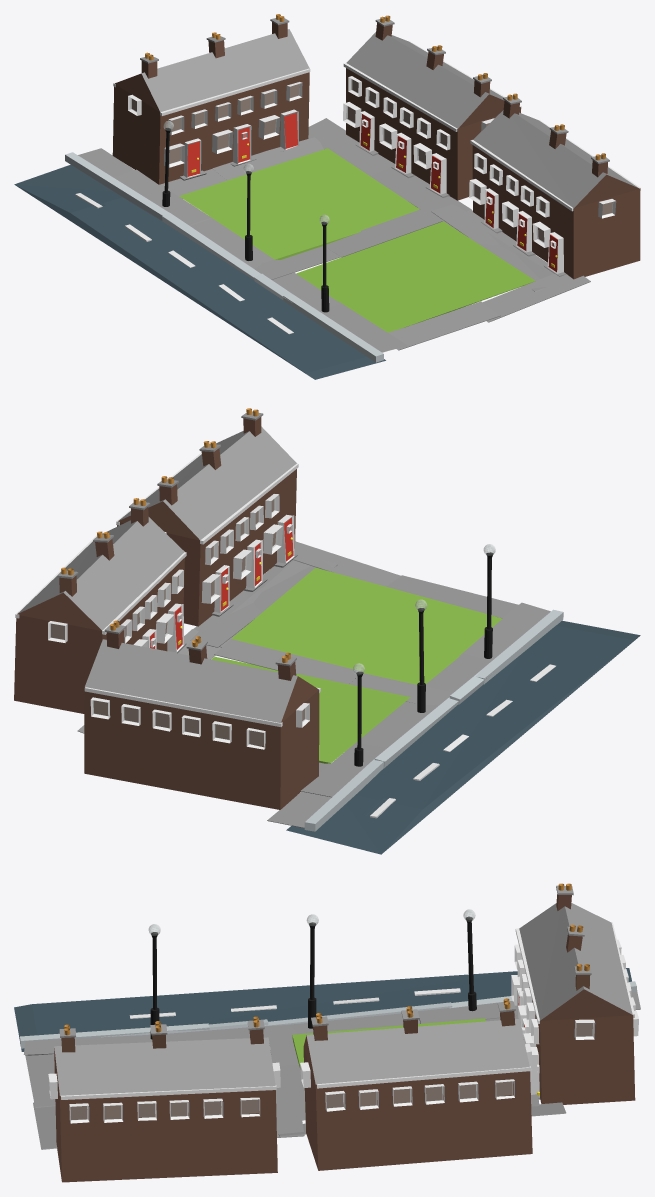
File: salford_street.glb
3 views of the same model, one above another, from view 1: azimuth 30°, elevation 25°; view 2: azimuth 150°, elevation 25°; view 3: azimuth 270°, elevation 25° (orthographic). The views are drawn at different scales.
Visible parts, largest first — view 1: group1712980391, group666656545, group501757177, group2063440936_bdce60, group295369104_a01643, group2063440936_8d117b, group1503953162, group1503953162_1855a2, group295369104_e31890, group624820178, group44896131, group511478509 (+18 smaller); view 2: group1712980391, group2063440936_bdce60, group501757177, group2063440936_8d117b, group1503953162, group295369104_e31890, group1503953162_1855a2, group295369104_a01643, group666656545, group44896131, group624820178, group1648312890 (+13 smaller); view 3: group1503953162, group295369104_a01643, group1712980391, group295369104_e31890, group1503953162_1855a2, group2063440936_bdce60, group2063440936_8d117b, group44896131, group624820178, group1721759264, group1839814078, group1648312890 (+10 smaller).
Part boxes in pixels (bbox=[...]): group1712980391: bbox=[14, 164, 385, 379]; group666656545: bbox=[179, 148, 419, 259]; group501757177: bbox=[296, 221, 535, 332]; group2063440936_bdce60: bbox=[112, 72, 309, 184]; group295369104_a01643: bbox=[472, 145, 640, 279]; group2063440936_8d117b: bbox=[141, 29, 309, 111]; group1503953162: bbox=[346, 68, 520, 200]; group1503953162_1855a2: bbox=[346, 32, 504, 128]; group295369104_e31890: bbox=[473, 110, 638, 207]; group624820178: bbox=[388, 301, 500, 350]; group44896131: bbox=[326, 208, 442, 257]; group511478509: bbox=[483, 272, 590, 322]; group1712980391: bbox=[286, 620, 640, 854]; group2063440936_bdce60: bbox=[84, 676, 319, 809]; group501757177: bbox=[231, 567, 502, 684]; group2063440936_8d117b: bbox=[85, 639, 297, 722]; group1503953162: bbox=[14, 558, 184, 713]; group295369104_e31890: bbox=[118, 426, 296, 540]; group1503953162_1855a2: bbox=[17, 517, 184, 630]; group295369104_a01643: bbox=[117, 469, 296, 626]; group666656545: bbox=[211, 656, 410, 763]; group44896131: bbox=[214, 639, 360, 684]; group624820178: bbox=[386, 575, 518, 618]; group1648312890: bbox=[459, 602, 550, 660]; group1503953162: bbox=[303, 1035, 532, 1170]; group295369104_a01643: bbox=[54, 1048, 277, 1182]; group1712980391: bbox=[14, 968, 631, 1051]; group295369104_e31890: bbox=[54, 1037, 275, 1096]; group1503953162_1855a2: bbox=[306, 1019, 529, 1084]; group2063440936_bdce60: bbox=[529, 987, 635, 1104]; group2063440936_8d117b: bbox=[519, 903, 632, 1020]; group44896131: bbox=[276, 1065, 305, 1120]; group624820178: bbox=[25, 1054, 55, 1107]; group1721759264: bbox=[418, 1001, 516, 1023]; group1839814078: bbox=[287, 1013, 420, 1034]; group1648312890: bbox=[23, 1034, 152, 1055].
Bounding box in the file's own units: 17.08 × 6 × 20.24.
